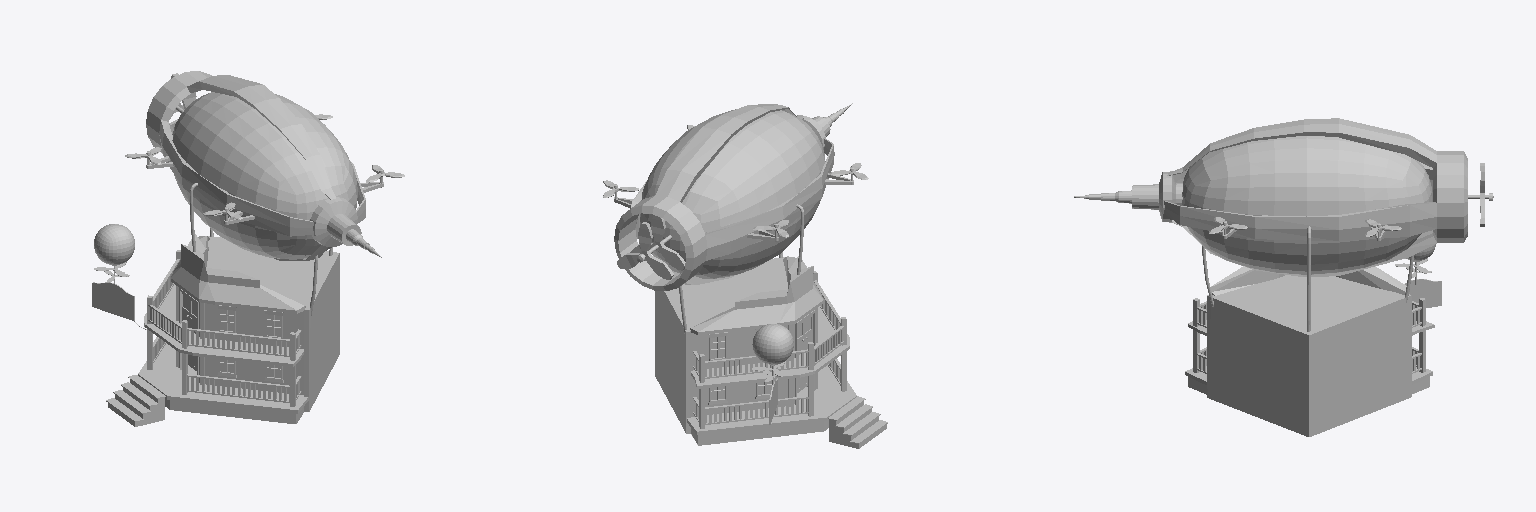
Rendered from SaloonUVMapFix2.obj.
3 views of the same model, side by side, from view 1: azimuth 30°, elevation 25°; view 2: azimuth 150°, elevation 25°; view 3: azimuth 270°, elevation 25° (orthographic).
Parts seen in each view (by area): view 1: pPipe16; view 2: pPipe16; view 3: pPipe16.
Part boxes in pixels (left/top/right/bottom): pPipe16: left=92, top=71, right=404, bottom=426; pPipe16: left=603, top=103, right=887, bottom=448; pPipe16: left=1074, top=118, right=1493, bottom=436.
Bounding box in the file's own units: 38.2 × 43.19 × 58.56.